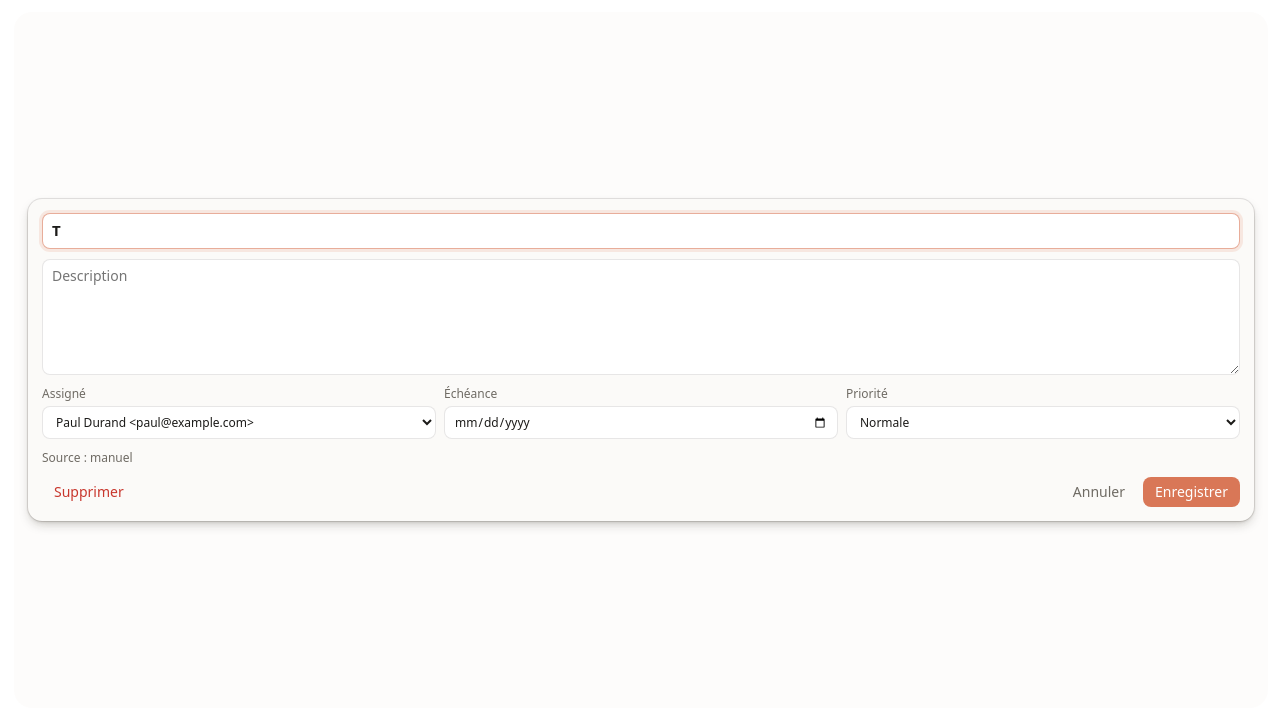
Test: assigning from the task editor › unassigning sends null; free text stays possible without a person
Later steps or results of the test are not shown.
Select "— Personne —" in the dropdown named "Assigné à" at (239, 422), box left=42, top=406, right=436, bottom=439
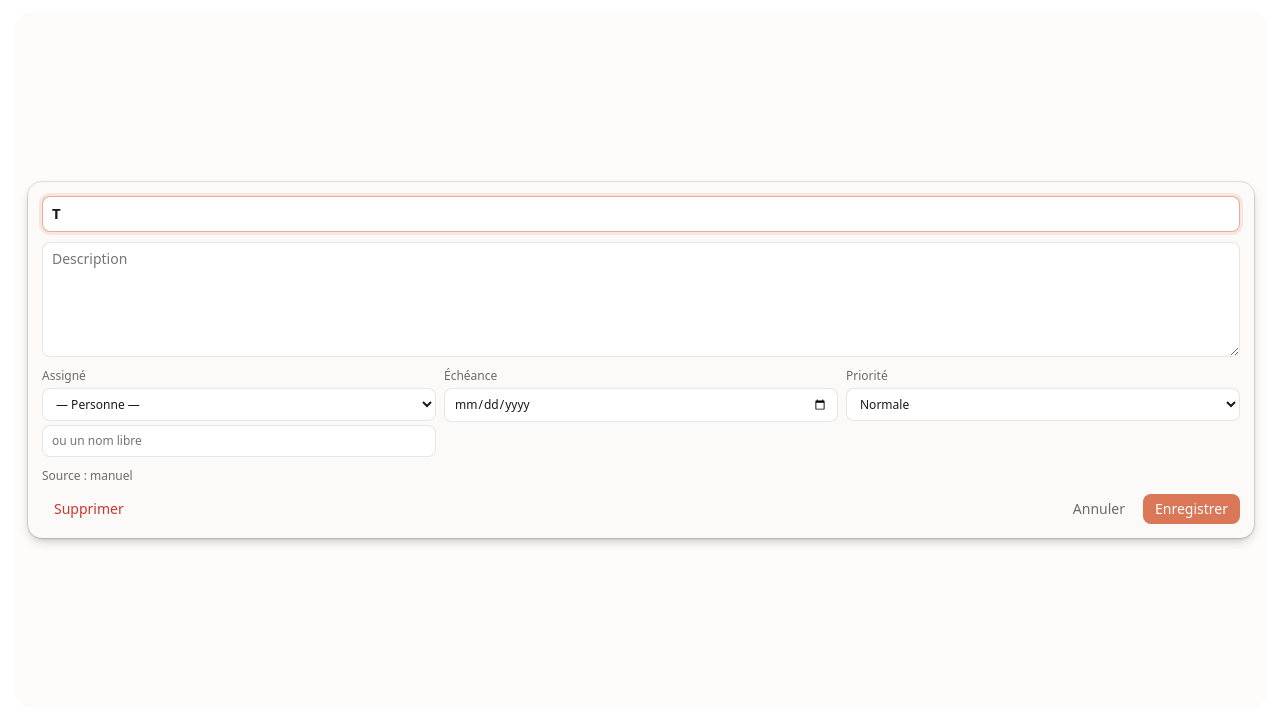
Now the field named "Assigné (texte libre)" is shown, box left=42, top=425, right=436, bottom=457
